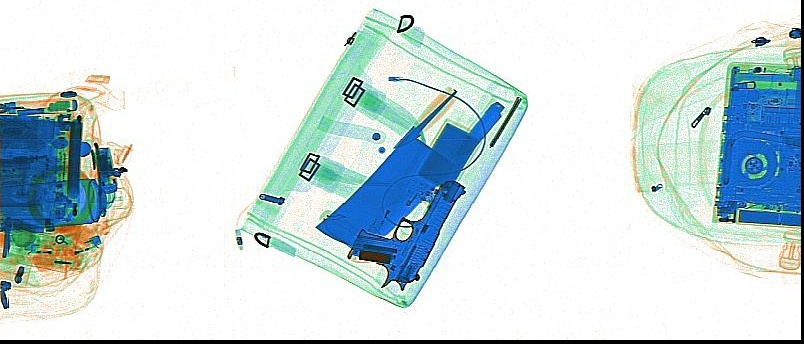knife: (313, 86, 457, 248), (451, 98, 505, 156), (318, 209, 369, 248), (488, 95, 521, 149)
pressure: (1, 177, 133, 231)
